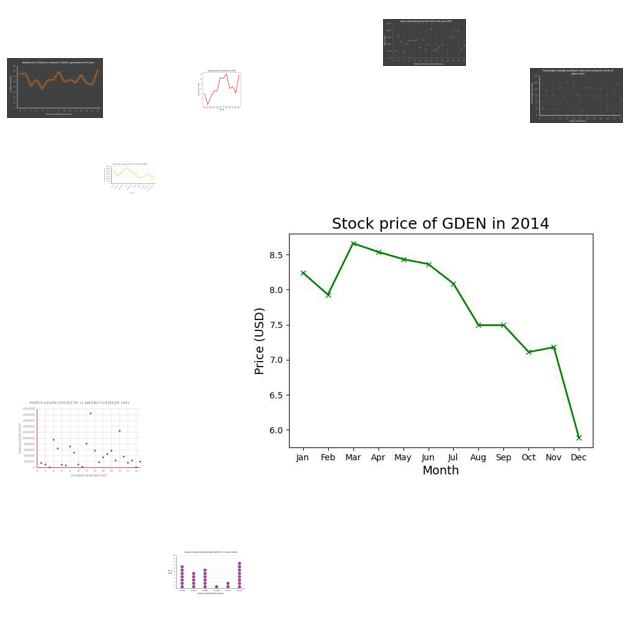Graph: (240, 192, 632, 486), (17, 400, 143, 478), (7, 58, 103, 118), (530, 68, 623, 123), (383, 19, 466, 66), (165, 550, 247, 596), (189, 67, 253, 111), (103, 162, 156, 194)
